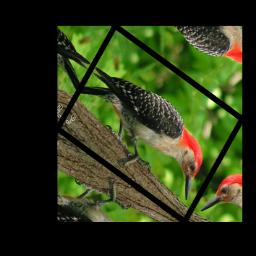Woodpecker: (63, 53, 221, 212)
